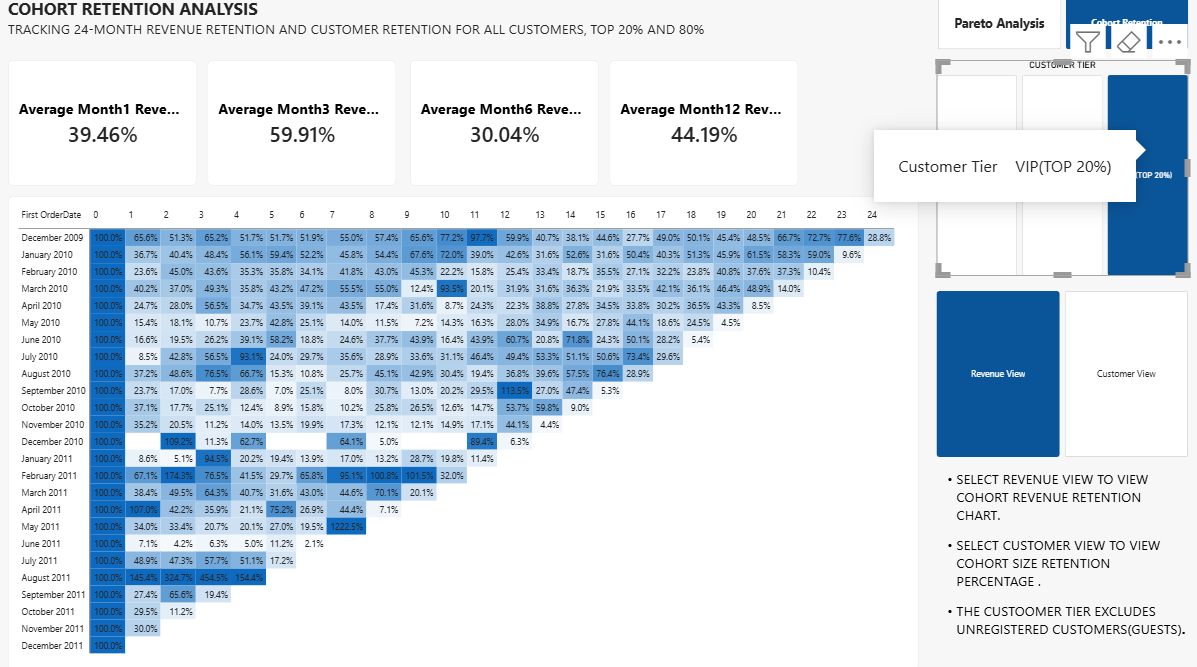

Layout of this report page (visuals, bound fields, positions):
{"tool":"powerbi","page":{"name":"Cohort Retention","canvas":[1920,1080],"ordinal":1},"visuals":[{"type":"pageNavigator","box":[1498.4,9.5,398.4,83.5],"z":0},{"type":"pivotTable","fields":{"Columns":["retailproject vw_cohort_retention_all.month_number"],"Rows":["retailproject vw_cohort_retention_all.first_order_date"],"Values":["retailproject vw_cohort_retention_all.Retention Percent"]},"box":[19.1,326.9,1412.5,737.2],"z":1000},{"type":"pivotTable","fields":{"Columns":["retailproject vw_cohort_retention_all.month_number"],"Rows":["retailproject vw_cohort_retention_all.first_order_date"],"Values":["retailproject vw_cohort_retention_all.Retention percentage"]},"box":[19.1,326.9,1448.3,753.9],"z":2000},{"type":"bookmarkNavigator","box":[1496,477.2,400.8,264.8],"z":3000},{"type":"advancedSlicerVisual","title":"CUSTOMER TIER","fields":{"Values":["retailproject vw_cohort_retention_all.segment"]},"box":[1496,109.8,400.8,343.6],"z":4000},{"type":"textbox","box":[20,10,1390.4,83.9],"z":5000},{"type":"cardVisual","fields":{"Data":["retailproject fact_sales.Average month1 retention"]},"box":[19.1,109.8,300,200],"z":6000},{"type":"cardVisual","fields":{"Data":["retailproject fact_sales.average month2 retention"]},"box":[336.4,109.8,300,200],"z":7000},{"type":"cardVisual","fields":{"Data":["retailproject fact_sales.average month6 retention"]},"box":[658.5,109.8,300,200],"z":8000},{"type":"cardVisual","fields":{"Data":["retailproject fact_sales.average year1 retention"]},"box":[975.8,109.8,300,200],"z":9000},{"type":"textbox","box":[1496,761.1,400.8,303],"z":9001}]}

Visuals, with their boxes on the page's 1920x1080 design canvas (x1, y1, x2, y2). These are canvas units, not pixel positions in the 1197x667 screenshot, which may show the page scaled, cropped or inside an application window:
pageNavigator: [1498,10,1897,93]
pivotTable - retailproject vw_cohort_retention_all.month_number x retailproject vw_cohort_retention_all.first_order_date: [19,327,1432,1064]
pivotTable - retailproject vw_cohort_retention_all.month_number x retailproject vw_cohort_retention_all.first_order_date: [19,327,1467,1081]
bookmarkNavigator: [1496,477,1897,742]
"CUSTOMER TIER" advancedSlicerVisual: [1496,110,1897,453]
textbox: [20,10,1410,94]
cardVisual - retailproject fact_sales.Average month1 retention: [19,110,319,310]
cardVisual - retailproject fact_sales.average month2 retention: [336,110,636,310]
cardVisual - retailproject fact_sales.average month6 retention: [658,110,958,310]
cardVisual - retailproject fact_sales.average year1 retention: [976,110,1276,310]
textbox: [1496,761,1897,1064]
